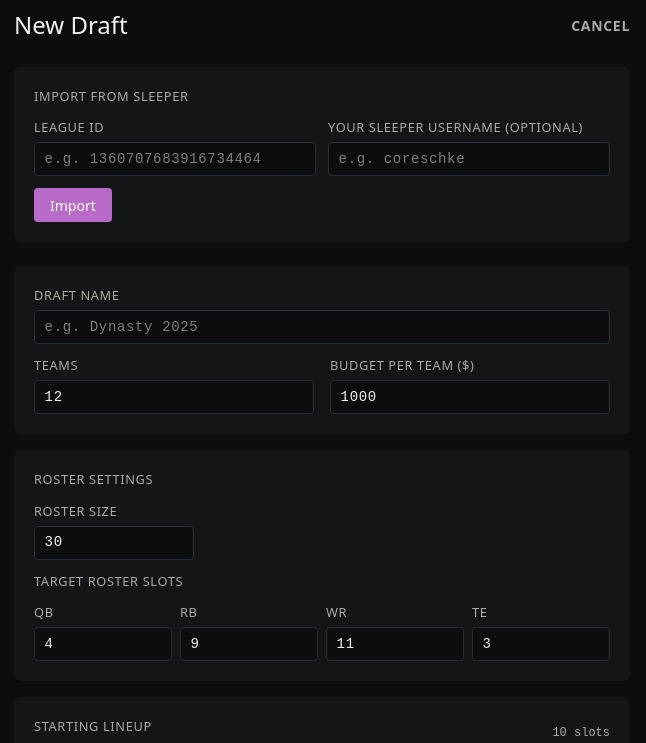
Scenario: NewDraftPage — Sleeper import banner › shows source warnings alongside an unmatched-owner warning
The image size is (646, 743).
Type "1360707683916734464" into the field with test id "sleeper-league-id". click: (175, 159)
box: [34,142,316,176]
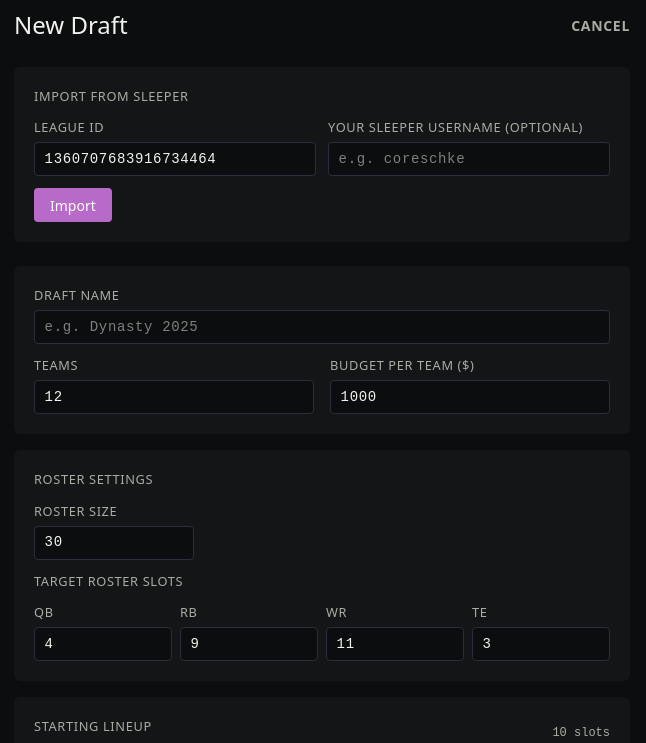
Type "coreschke" into the field with test id "sleeper-owner-username". click: (469, 159)
box: [328,142,610,176]
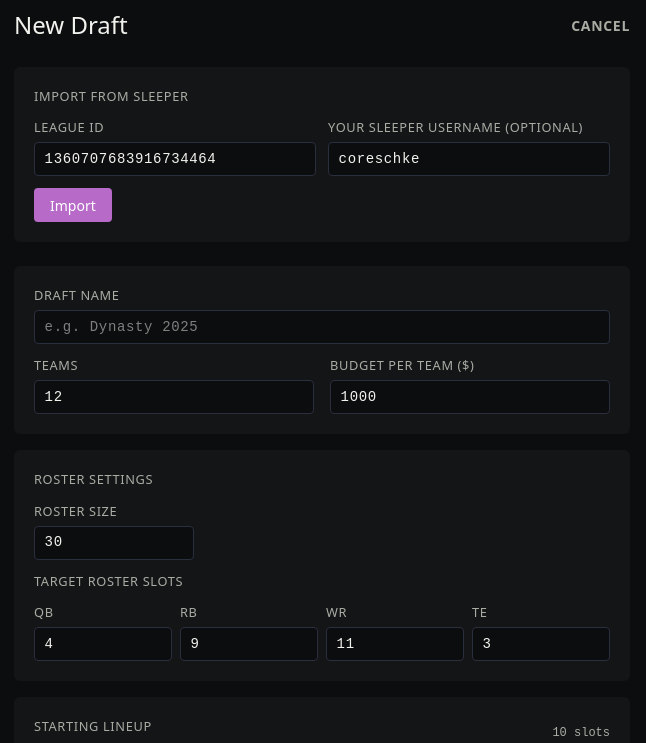
Click the button with test id "sleeper-import-button". click: (73, 205)
box: [34,188,112,222]
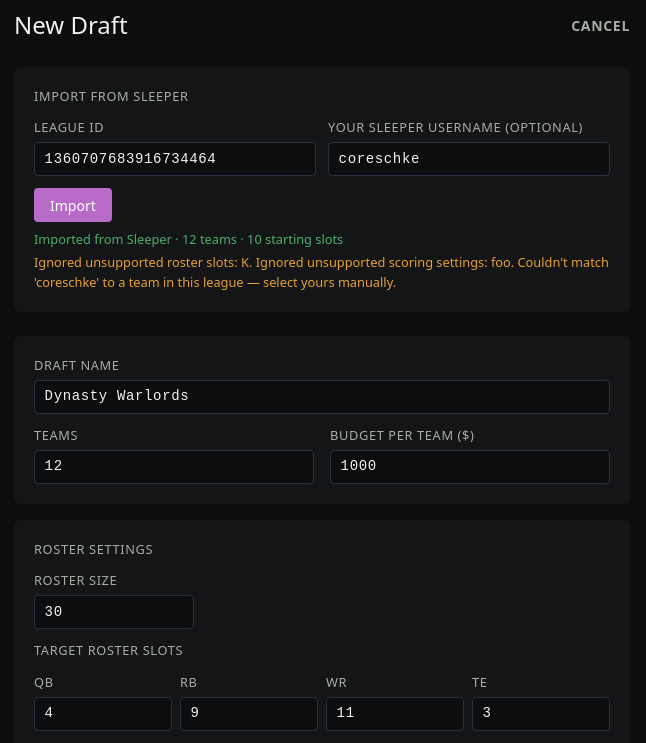
Expected: the text with test id "sleeper-import-warning" shows "Ignored unsupported roster slots: K.", [34,253,609,290]
Expected: the text with test id "sleeper-import-warning" shows "Ignored unsupported scoring settings: foo.", [34,253,609,290]
Expected: the text with test id "sleeper-import-warning" shows "Couldn't match 'coreschke' to a team in this league — select yours manually.", [34,253,609,290]
